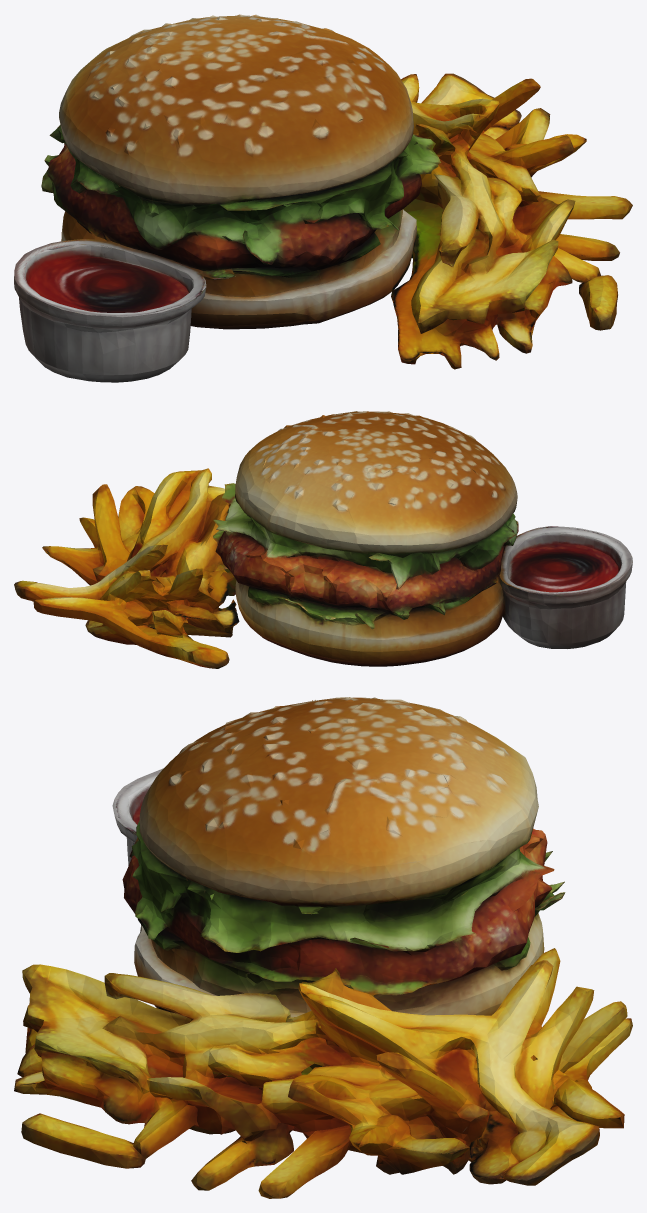
The model's file is Chicken Burger.glb.
3 views of the same model, one above another, from view 1: azimuth 30°, elevation 25°; view 2: azimuth 150°, elevation 25°; view 3: azimuth 270°, elevation 25° (orthographic). The views are drawn at different scales.
Visible parts, largest first — view 1: world; view 2: world; view 3: world.
Part boxes in pixels (x1,y1,x2,y2): world: (14, 14, 632, 382); world: (14, 411, 632, 668); world: (14, 697, 632, 1198).
Bounding box in the file's own units: 1 × 0.3835 × 0.7485.
Materials: 1 (1 with a texture image).
